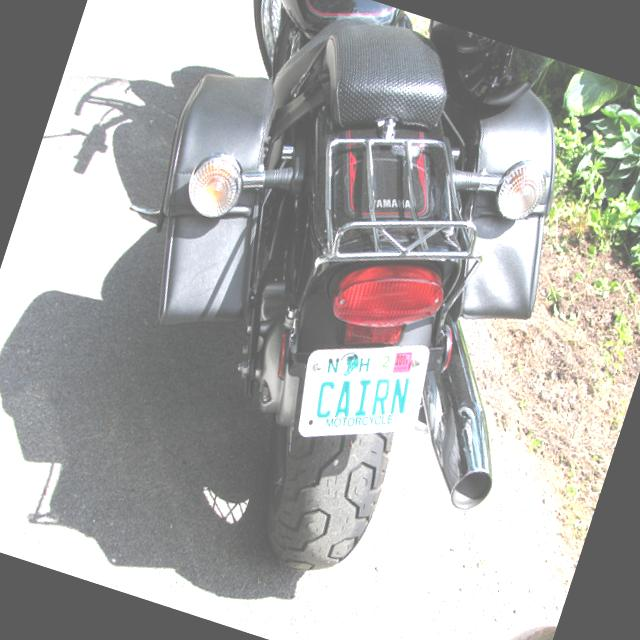Vehicle: (72, 0, 606, 607), (469, 604, 558, 640)
